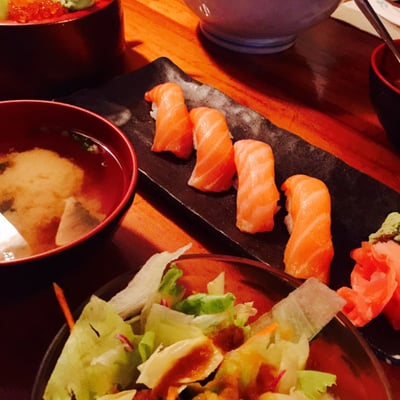pizza: (180, 0, 344, 55)
salad: (353, 0, 400, 68)
sushi: (0, 99, 139, 295), (0, 0, 127, 96)
